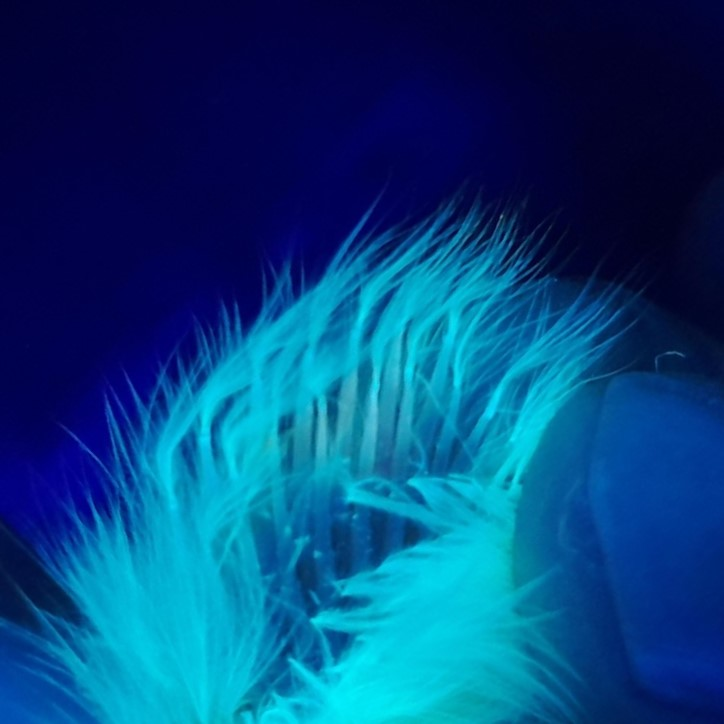female: (225, 303, 532, 667)
